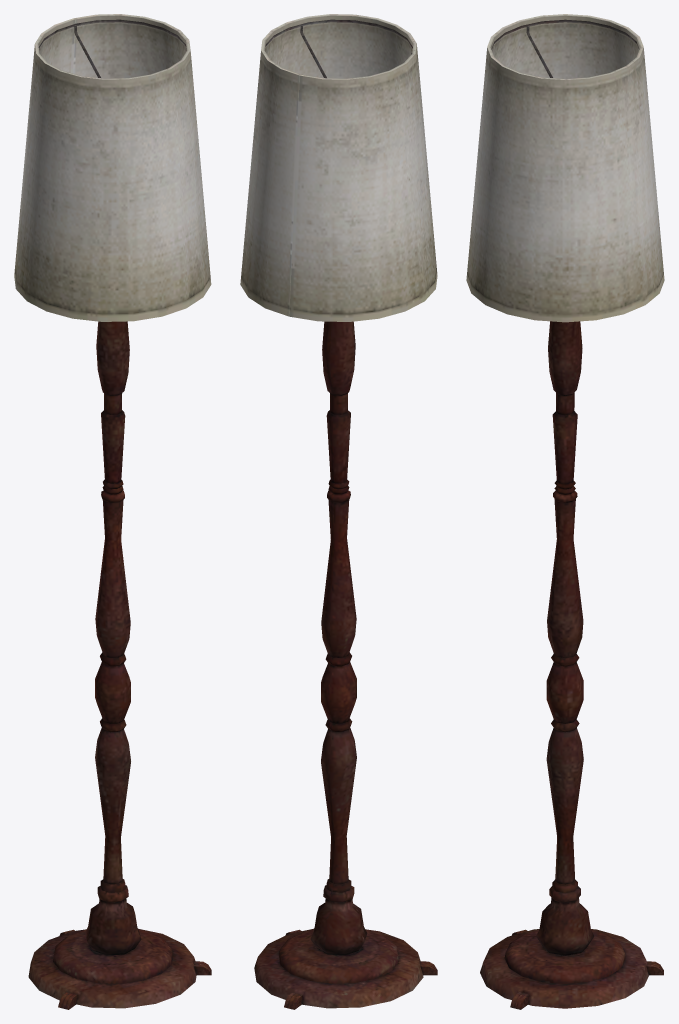
File: sm35_026_lampstand01a.fbx
3 renders of one model, left to right at view 1: azimuth 30°, elevation 25°; view 2: azimuth 150°, elevation 25°; view 3: azimuth 270°, elevation 25°, orthographic.
Parts seen in each view (by area): view 1: LOD_1_Group_0_Sub_3__sm35_026_LampStand01A_J_Mat, LOD_1_Group_0_Sub_1__sm35_026_LampStand01A_H_Mat; view 2: LOD_1_Group_0_Sub_3__sm35_026_LampStand01A_J_Mat, LOD_1_Group_0_Sub_1__sm35_026_LampStand01A_H_Mat; view 3: LOD_1_Group_0_Sub_3__sm35_026_LampStand01A_J_Mat, LOD_1_Group_0_Sub_1__sm35_026_LampStand01A_H_Mat.
Part boxes in pixels (x1,y1,x2,y2): LOD_1_Group_0_Sub_3__sm35_026_LampStand01A_J_Mat: (14, 14, 211, 321); LOD_1_Group_0_Sub_1__sm35_026_LampStand01A_H_Mat: (28, 19, 211, 1009); LOD_1_Group_0_Sub_3__sm35_026_LampStand01A_J_Mat: (240, 14, 437, 321); LOD_1_Group_0_Sub_1__sm35_026_LampStand01A_H_Mat: (254, 19, 437, 1009); LOD_1_Group_0_Sub_3__sm35_026_LampStand01A_J_Mat: (466, 14, 664, 322); LOD_1_Group_0_Sub_1__sm35_026_LampStand01A_H_Mat: (480, 19, 663, 1009).
Bounding box in the file's own units: 0.3392 × 1.75 × 0.3392.
